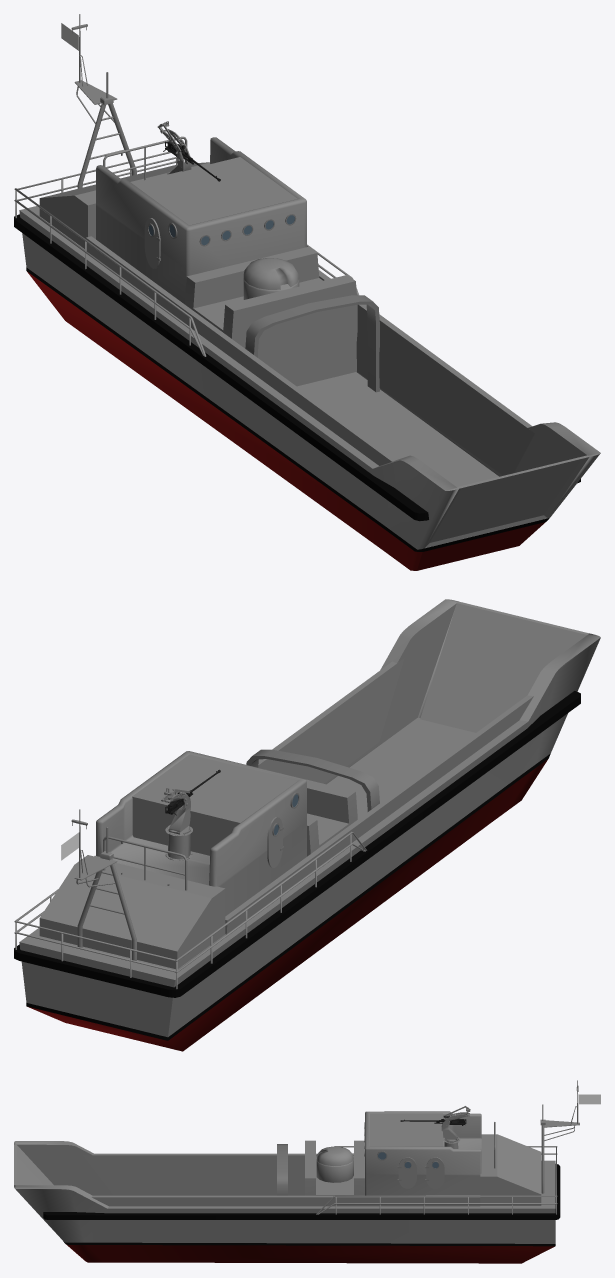
File: type_21_landing_craft.glb
3 renders of one model, top to bottom at view 1: azimuth 30°, elevation 25°; view 2: azimuth 150°, elevation 25°; view 3: azimuth 270°, elevation 25°, orthographic. The views are drawn at different scales.
Visible parts, largest first — view 1: Type21_body, Type21_door; view 2: Type21_body, Type21_door, Type21_gun_turret; view 3: Type21_body, Type21_door, Type21_gun_turret.
Boxes of the visible parts, bbox=[...] form: Type21_body: bbox=[14, 14, 600, 570]; Type21_door: bbox=[425, 455, 589, 547]; Type21_body: bbox=[14, 599, 600, 1051]; Type21_door: bbox=[420, 601, 589, 732]; Type21_gun_turret: bbox=[161, 788, 190, 832]; Type21_body: bbox=[14, 1080, 579, 1263]; Type21_door: bbox=[14, 1144, 53, 1185]; Type21_gun_turret: bbox=[441, 1106, 470, 1139].
Size of the model in its own units: 2.76 by 4.12 by 13.28.
Materials: 2 (1 with a texture image).
